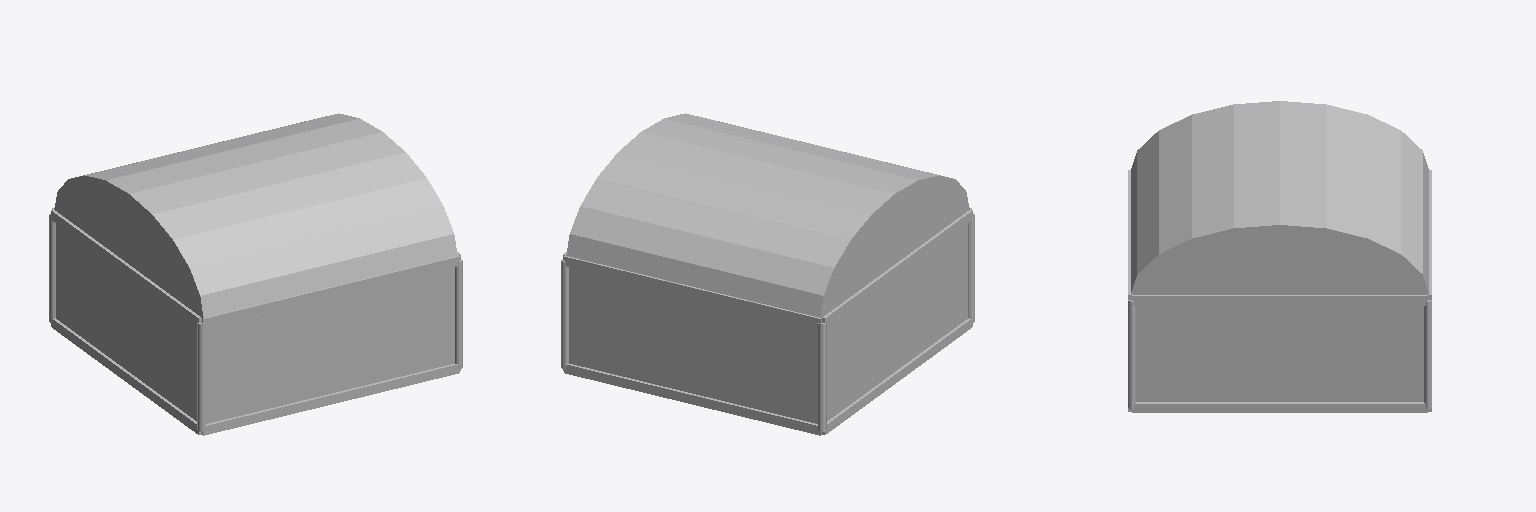
Rendered from Shop01.obj.
The picture shows the model from 3 angles: view 1: azimuth 30°, elevation 25°; view 2: azimuth 150°, elevation 25°; view 3: azimuth 270°, elevation 25°; orthographic projection.
Visible parts, largest first — view 1: polySurface6; view 2: polySurface6; view 3: polySurface6.
Boxes of the visible parts, <box> form: polySurface6: <box>49,113,462,435</box>; polySurface6: <box>561,113,974,435</box>; polySurface6: <box>1128,101,1431,412</box>.
Size of the model in its own units: 10.29 by 6.93 by 10.29.